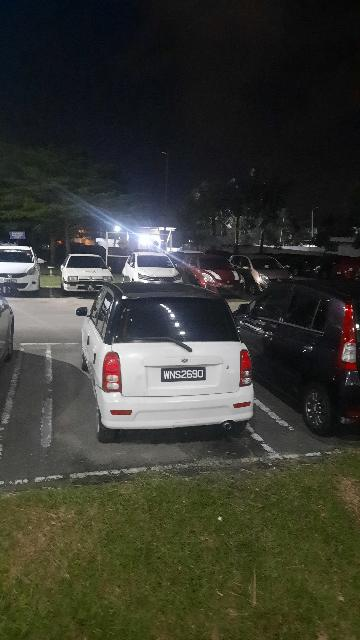License_Plate: (161, 366, 207, 382)
car: (74, 281, 260, 439), (243, 276, 360, 434), (176, 250, 246, 295), (58, 248, 115, 296), (126, 250, 189, 292), (233, 255, 295, 295), (2, 246, 45, 296)
